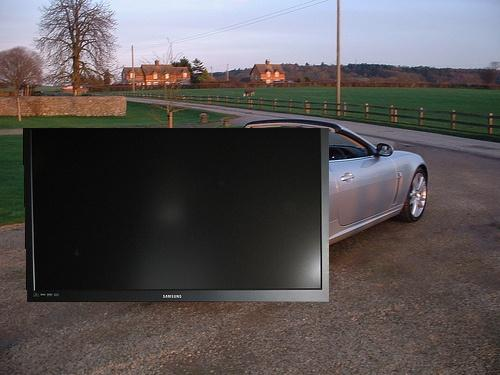tampered: (24, 129, 329, 302)
